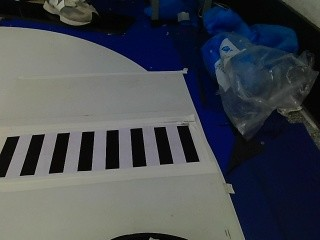crosswalk: (0, 122, 204, 171)
